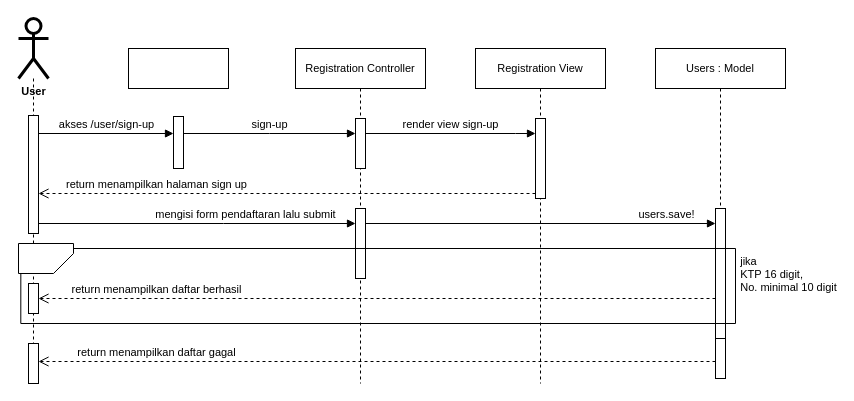
The diagram is 854 pixels wide and 401 high, and some of its shapes have lost their labels. The shapes that lost their labels are listed below. From the top down, each one's centre as x and y in pixels, then its label:
At (x=178, y=68): "Route".
At (x=46, y=258): "alt".
